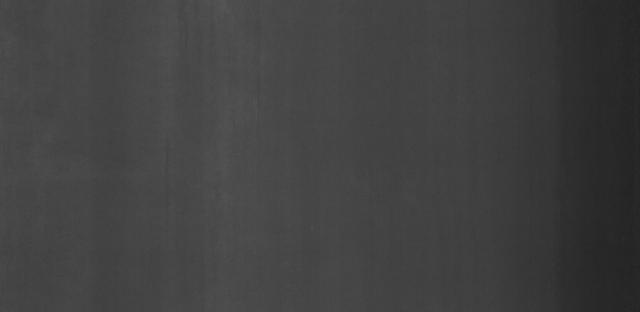silk_spot: (173, 18, 273, 75)
